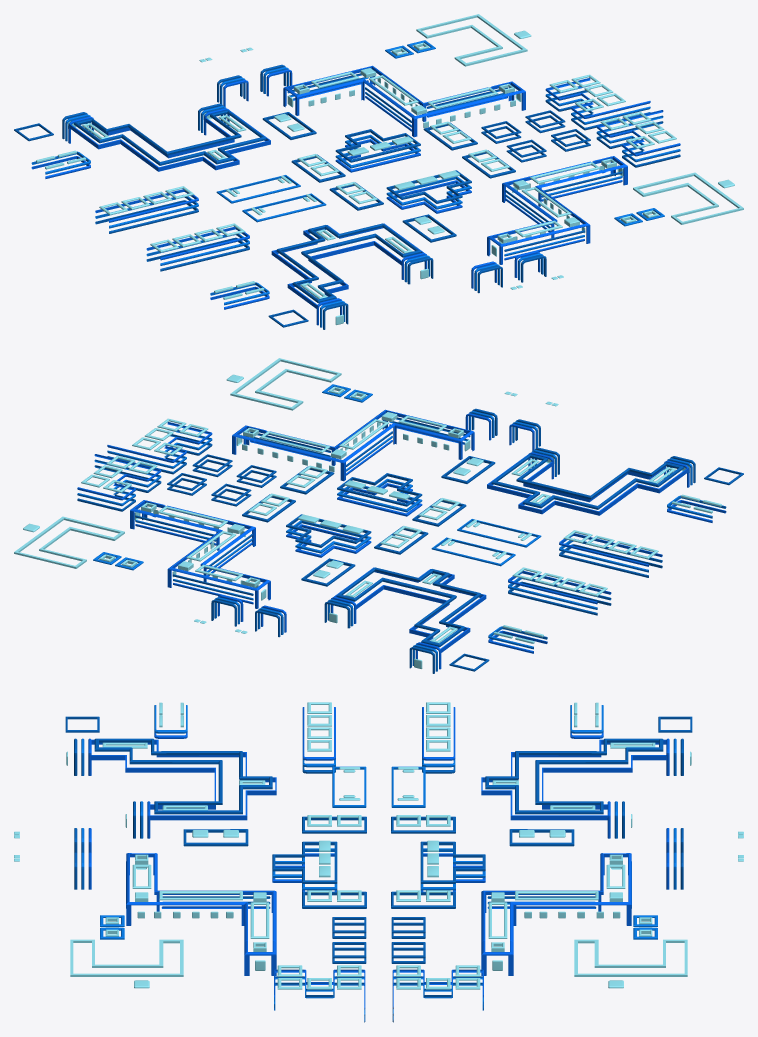
File: wall_deco_P2L3.fbx
3 renders of one model, top to bottom at view 1: azimuth 30°, elevation 25°; view 2: azimuth 150°, elevation 25°; view 3: azimuth 270°, elevation 25°, orthographic. The views are drawn at different scales.
Visible parts, largest first — view 1: wall_deco_P2L3; view 2: wall_deco_P2L3; view 3: wall_deco_P2L3.
Boxes of the visible parts, left/top/right/bottom form: wall_deco_P2L3: left=14, top=14, right=743, bottom=329; wall_deco_P2L3: left=14, top=358, right=743, bottom=673; wall_deco_P2L3: left=14, top=702, right=743, bottom=1022.
Bounding box in the file's own units: 7194 × 301 × 7389.
